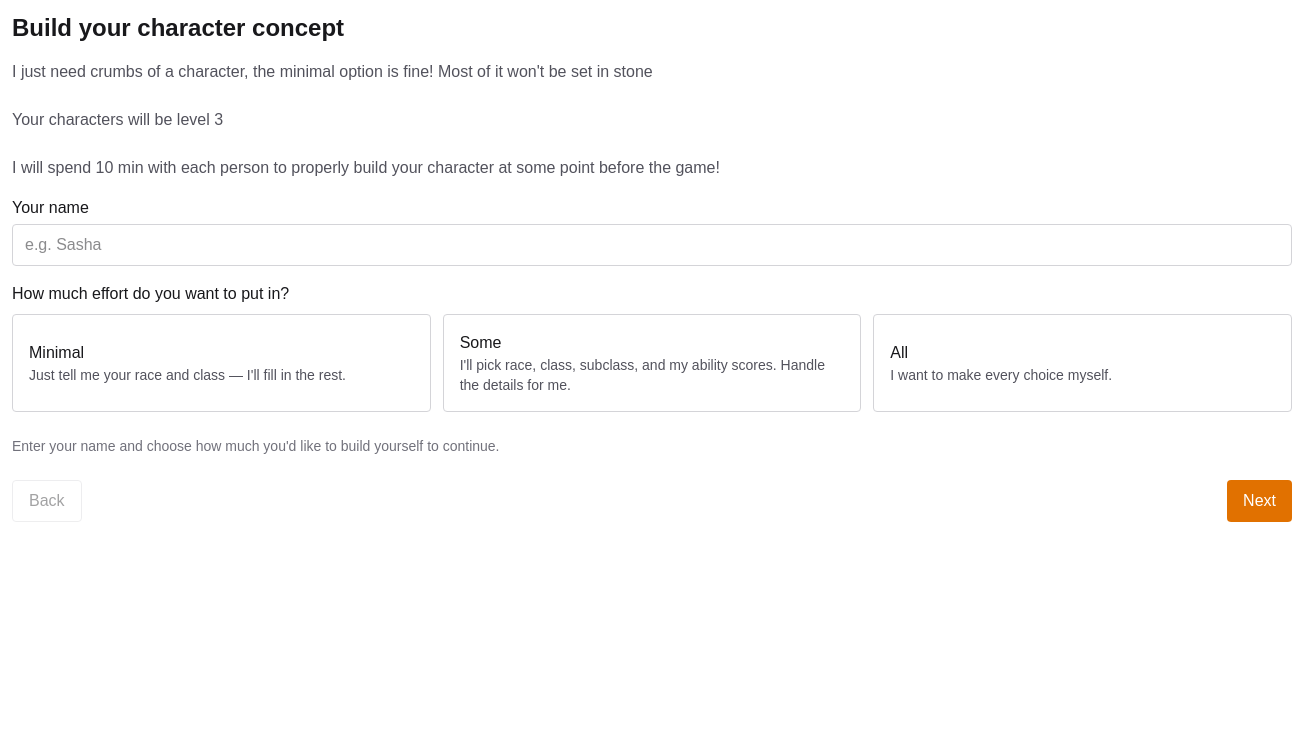
Wizard › shows an inline validation hint on Welcome until a name and effort level are entered
This screenshot has width=1304, height=732.
Expected: the text "Enter your name and choose how much you'd like to build yourself" is shown, [12,438,500,454]
Type "Sasha" into the field labelled "Your name". click: [652, 245]
box: [12,224,1292,266]
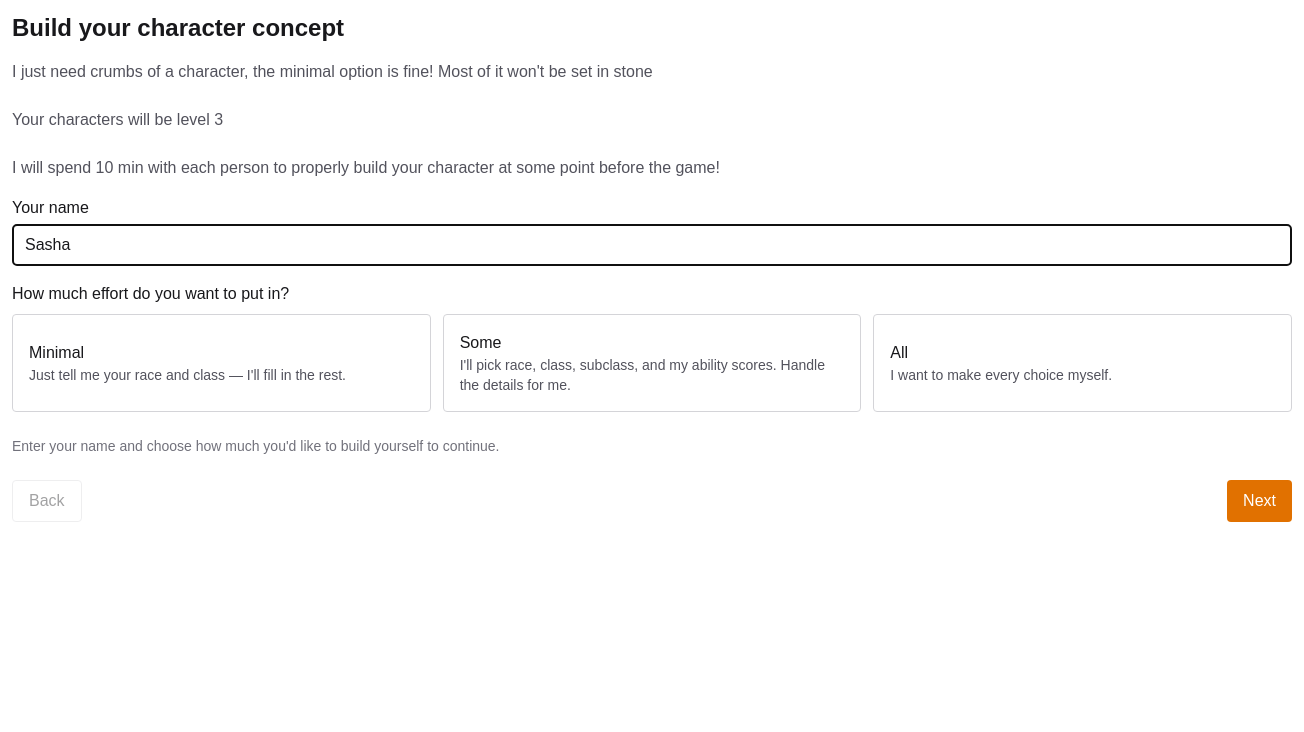
Expected: the text "Enter your name and choose how much you'd like to build yourself" is shown, [12,438,500,454]
Click the button "All I want to make every choice myself.". click: [1001, 375]
box: [873,314,1292,412]
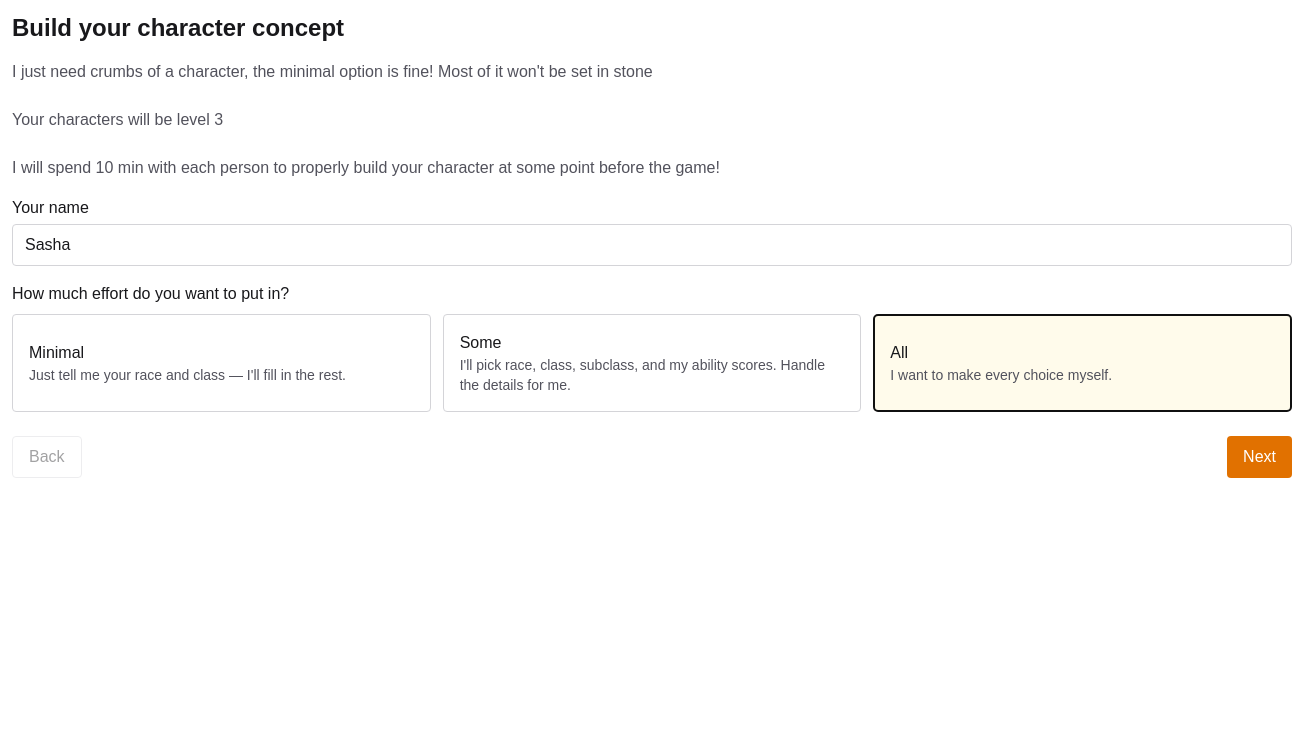
Now the text "Enter your name and choose how much you'd like to build yourself" is gone
